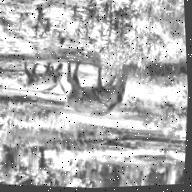boar: (61, 56, 137, 129), (22, 58, 69, 102)
